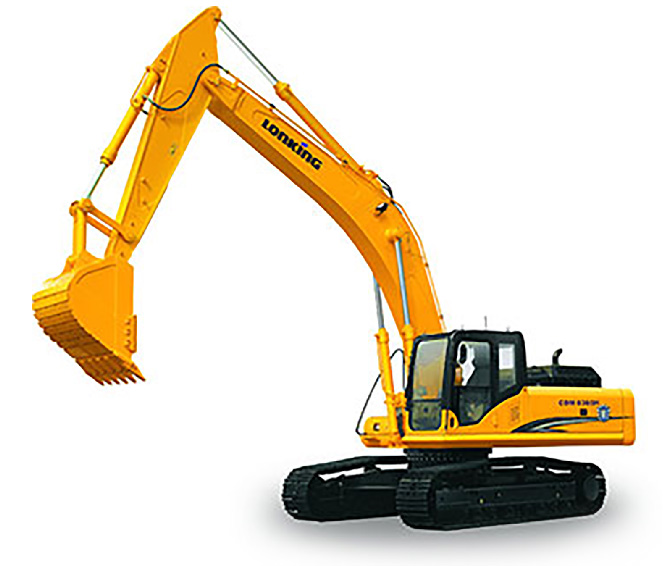crane: (54, 4, 632, 528)
